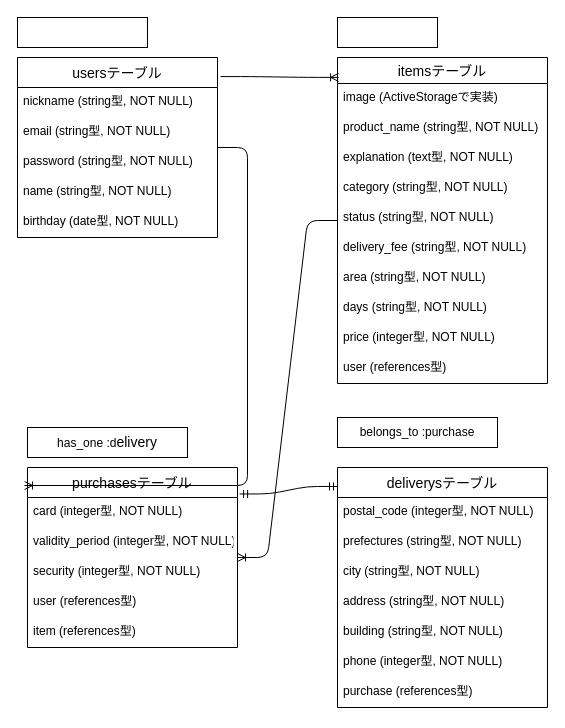
Image size: 565x728. Some labels were removed from this diagram. The shapes that lost their labels are listed below. From the top down, each one's centre as x and y in pixels, then its label:
the point at 82,32: has_many :item
the point at 387,32: belongs_to :user
